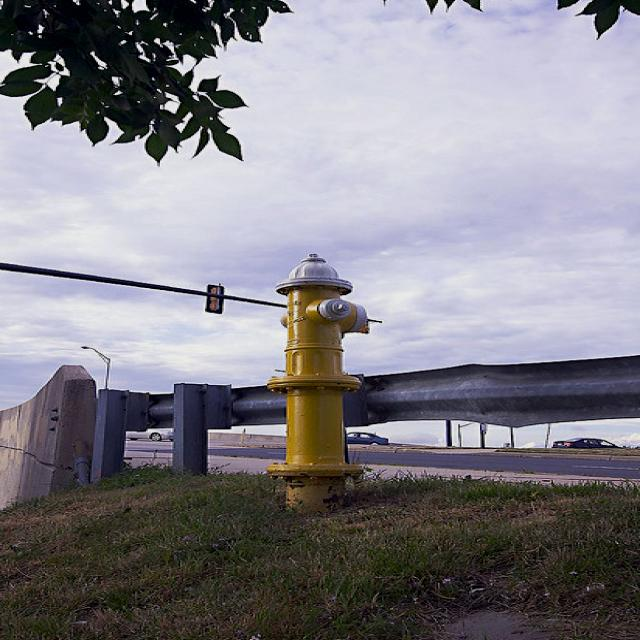Vehicle: (552, 438, 630, 448), (346, 432, 390, 446), (126, 429, 172, 441)
